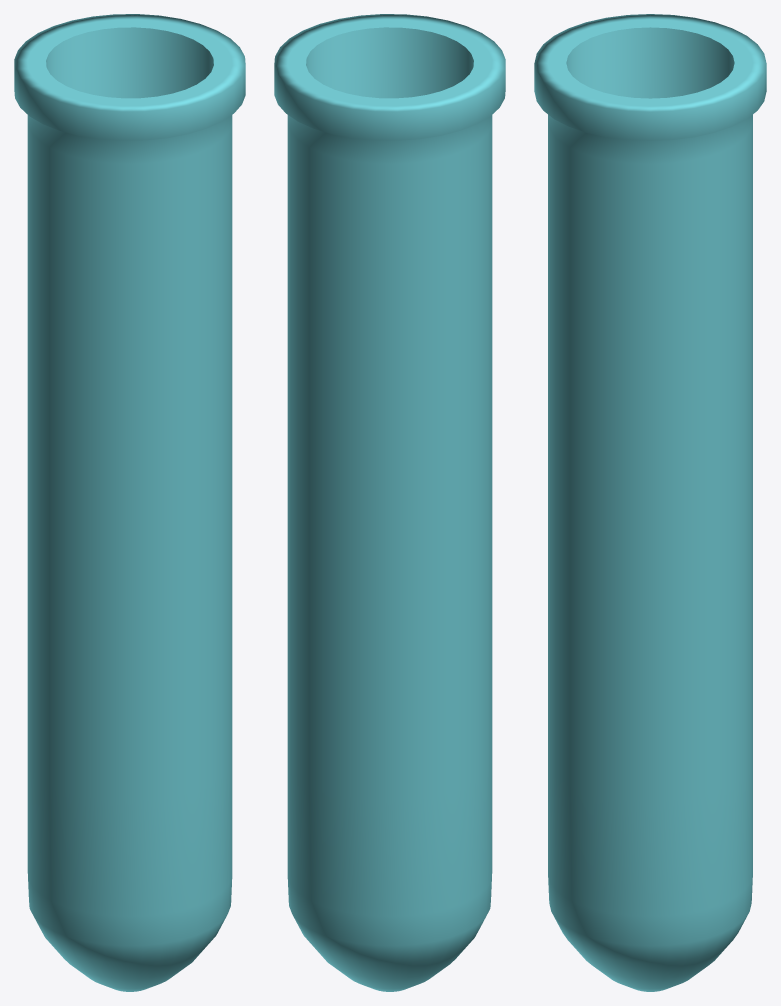
Rendered from testtube.fbx.
3 renders of one model, left to right at view 1: azimuth 30°, elevation 25°; view 2: azimuth 150°, elevation 25°; view 3: azimuth 270°, elevation 25°, orthographic.
Parts seen in each view (by area): view 1: Cylinder; view 2: Cylinder; view 3: Cylinder.
Boxes of the visible parts, x1,y1,x2,y2 form: Cylinder: [14, 14, 245, 991]; Cylinder: [274, 14, 505, 991]; Cylinder: [534, 14, 766, 991].
Bounding box in the file's own units: 226 × 996 × 226.
